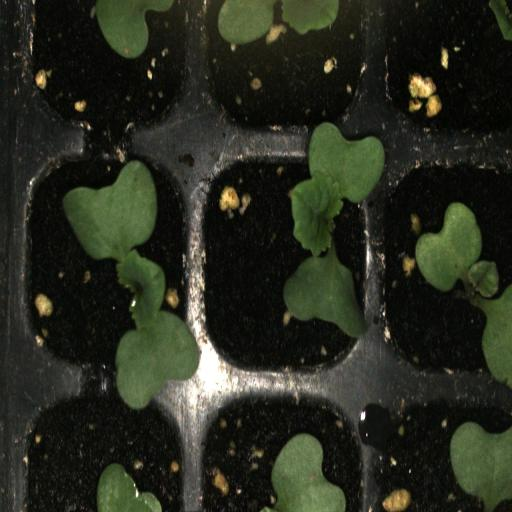seedling: (17, 144, 202, 378), (201, 145, 374, 384), (374, 144, 512, 382)
